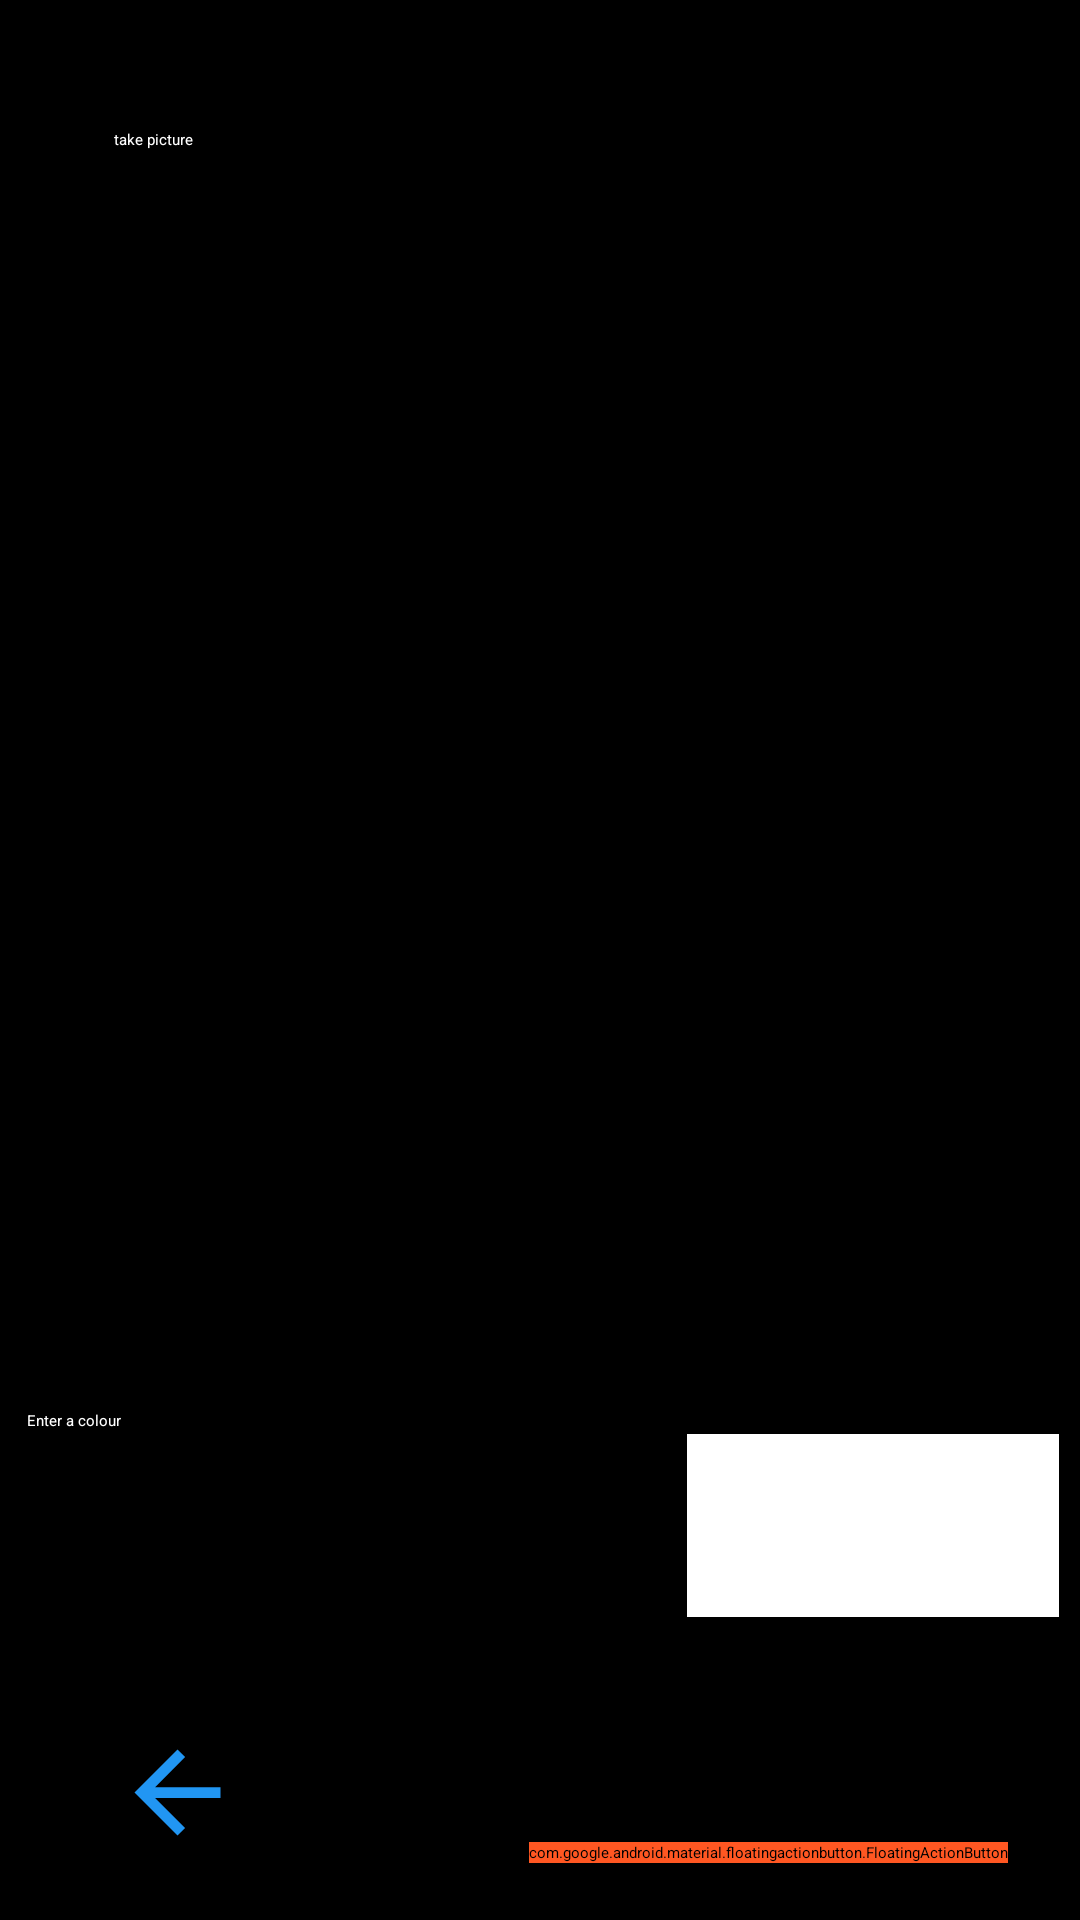

Icons on this 1080*1920 Android screen, each with its box as (x1, y1, x2, y2):
arrow back: (134, 1749, 221, 1836)
